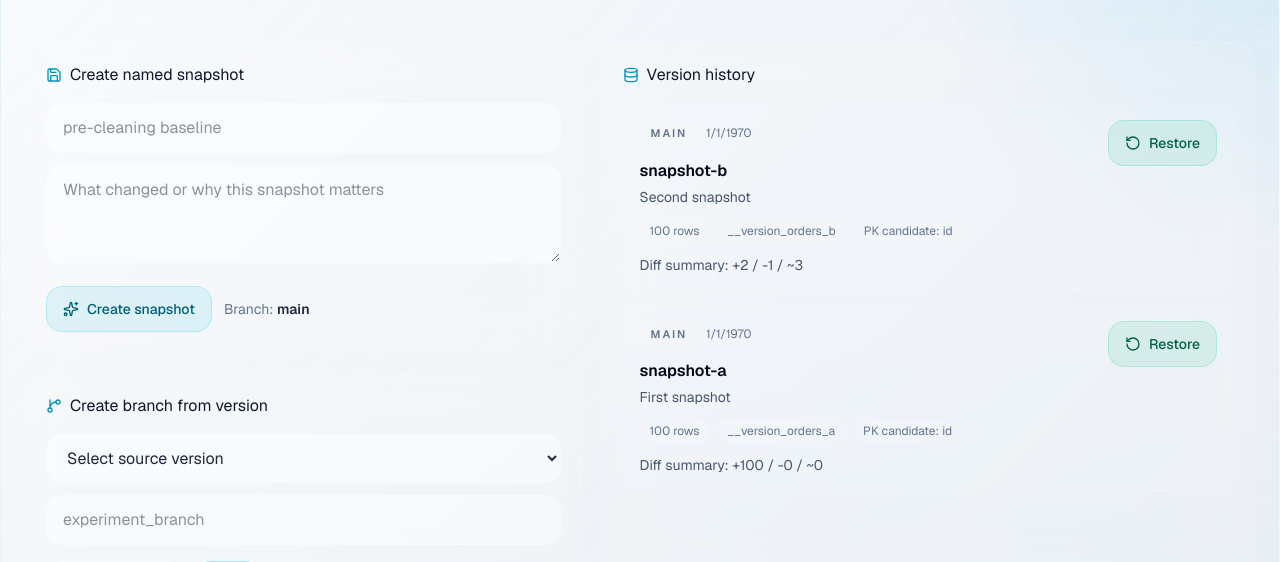
Scenario: DataVersioning › creates a branch from a stored version
Select "main / snapshot-a" in the dropdown: (303, 458) [46,434,561,483]
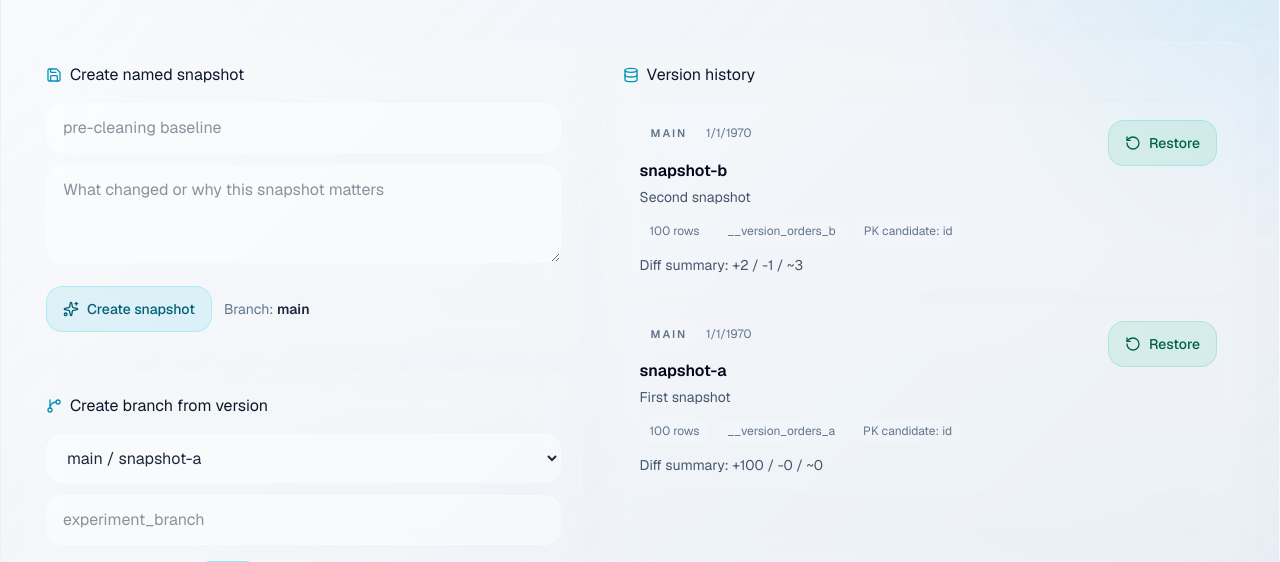
In the field with placeholder "experiment_branch": (303, 520) [46,495,561,545], type "qa_branch"
(page scrolled)
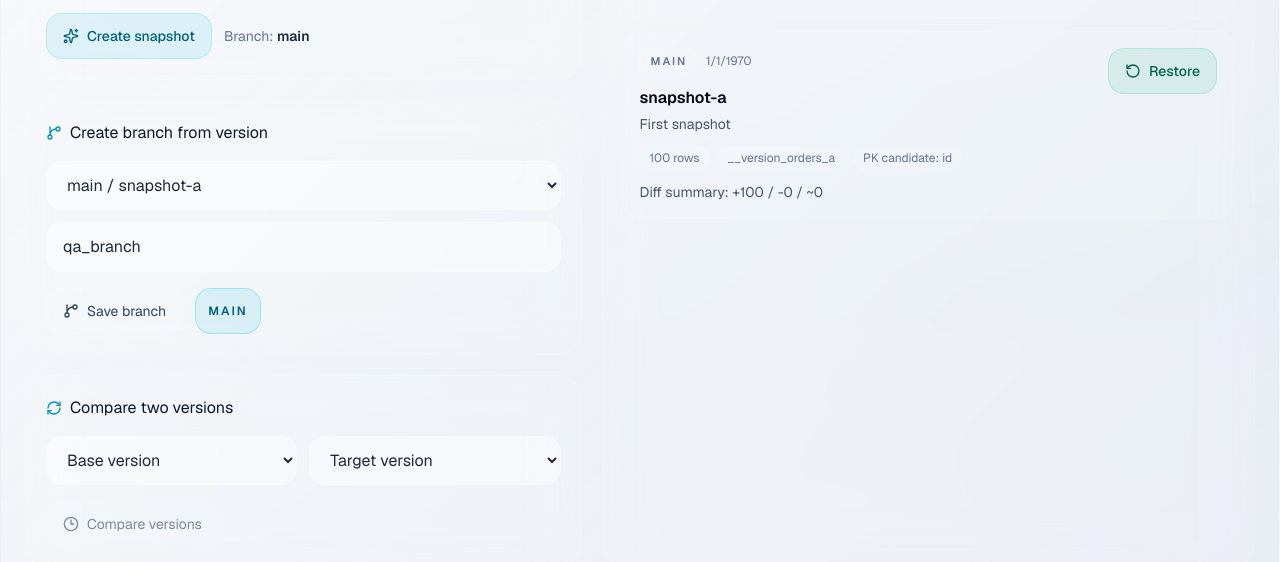
Click the button "Save branch": (115, 311) [46,288,183,334]
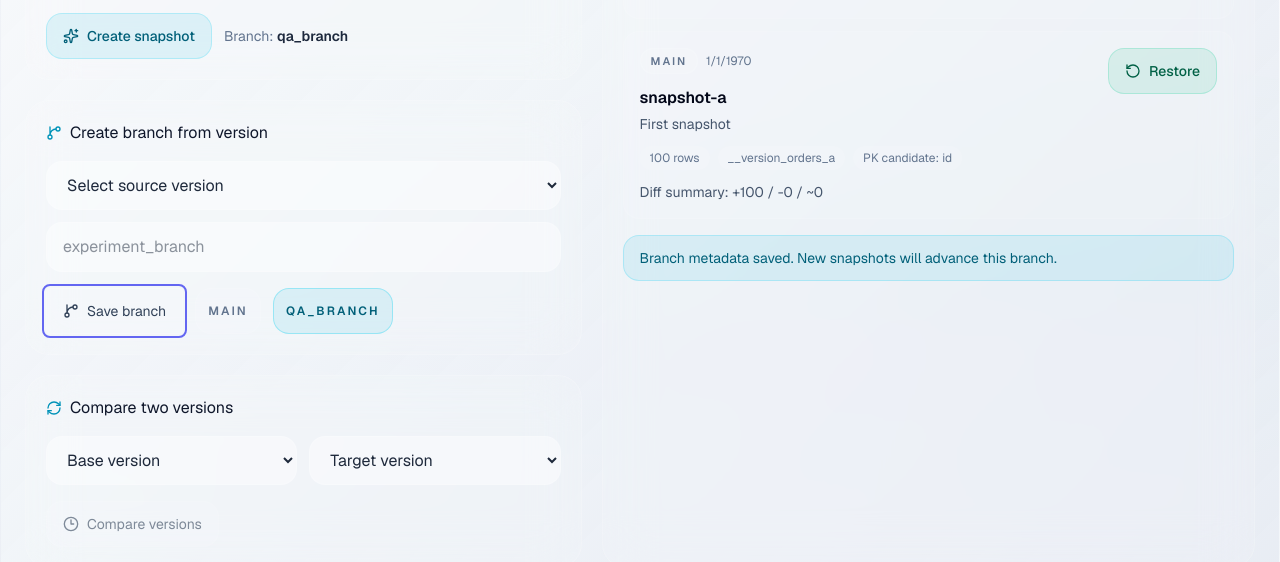
Expected: the text "Branch metadata saved. New snapshots will advance this branch." is shown, [623,235,1234,281]
